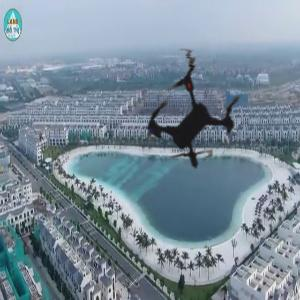drone: (94, 22, 300, 228)
